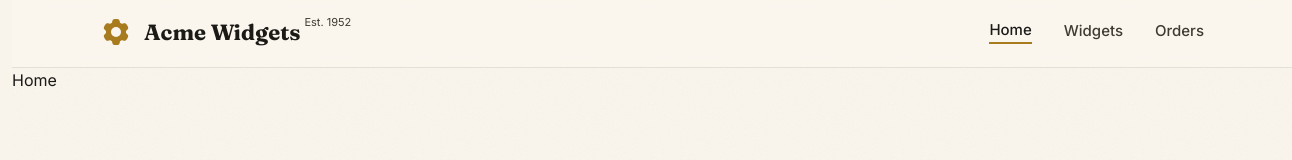
TopNav › navigates to /widgets when the Widgets link is clicked
This screenshot has width=1292, height=160.
Expected: the text "Home" is shown, [12,70,57,90]
Click the link "Widgets" at (1093, 32), box [1064,20,1123,43]
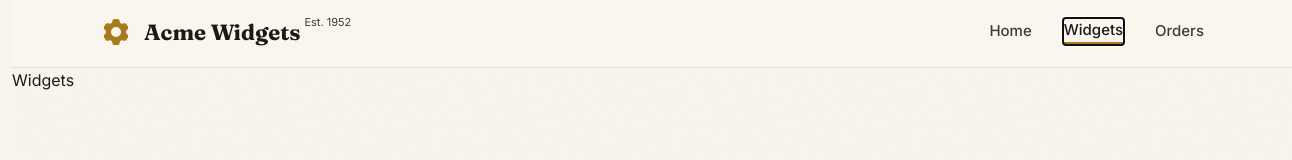
Now the text "Widgets" is shown, box [12,70,74,90]
